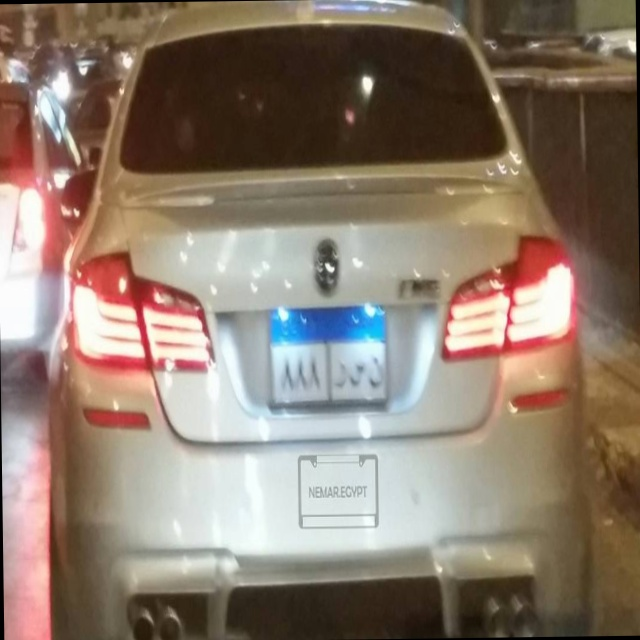License Plate: (263, 301, 391, 417)
